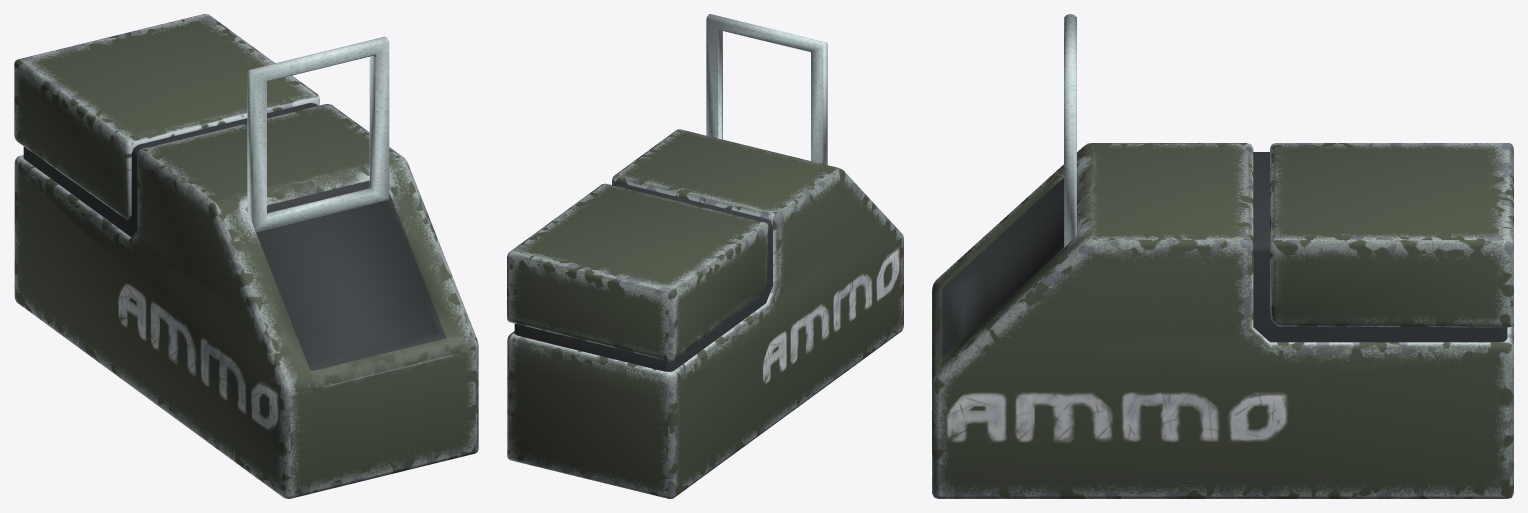
The model's file is SM_AmmoCrate.fbx.
3 renders of one model, left to right at view 1: azimuth 30°, elevation 25°; view 2: azimuth 150°, elevation 25°; view 3: azimuth 270°, elevation 25°, orthographic. The views are drawn at different scales.
Parts seen in each view (by area): view 1: SK_AmmoPack; view 2: SK_AmmoPack; view 3: SK_AmmoPack.
Boxes of the visible parts, x1,y1,x2,y2 form: SK_AmmoPack: (14,14,478,498); SK_AmmoPack: (507,14,903,498); SK_AmmoPack: (932,14,1513,498).
Bounding box in the file's own units: 25.18 × 46.47 × 61.06.
Materials: 1 (1 with a texture image).
